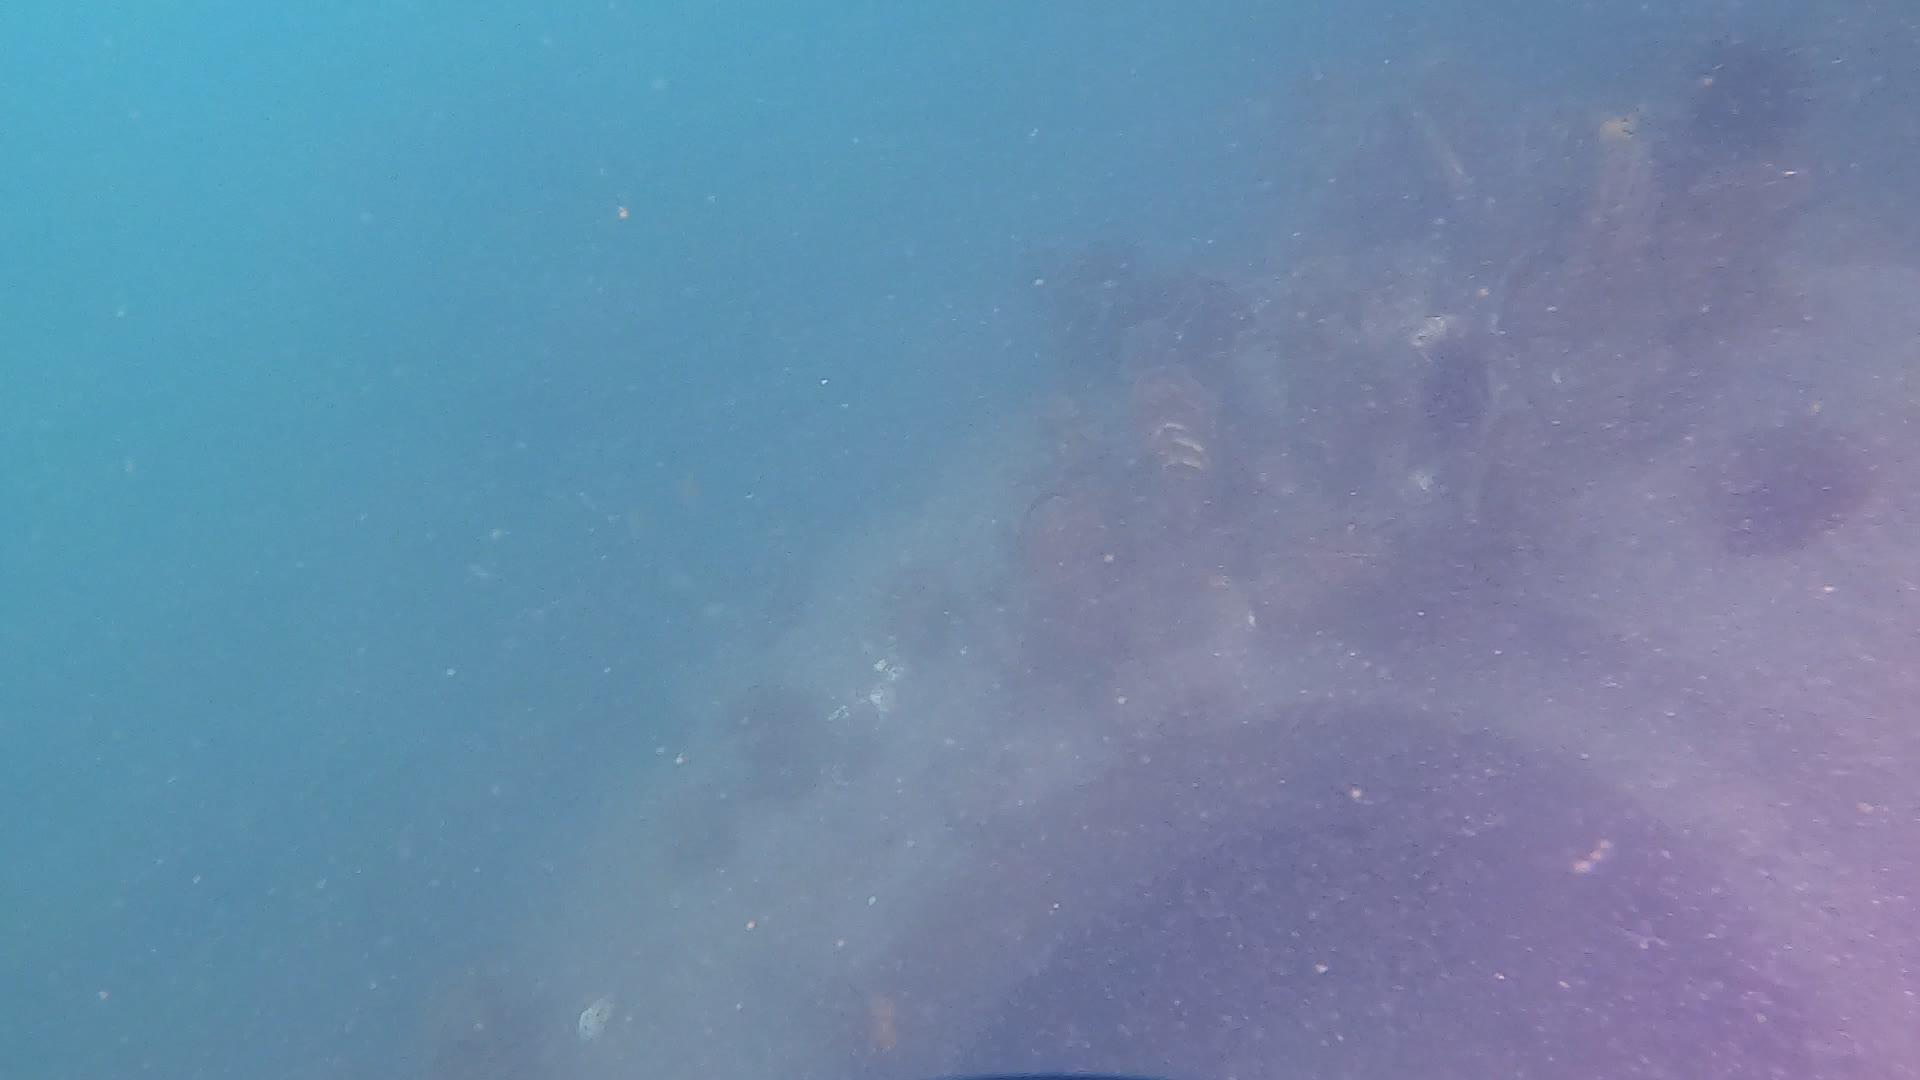tire: (417, 255, 1920, 1080)
